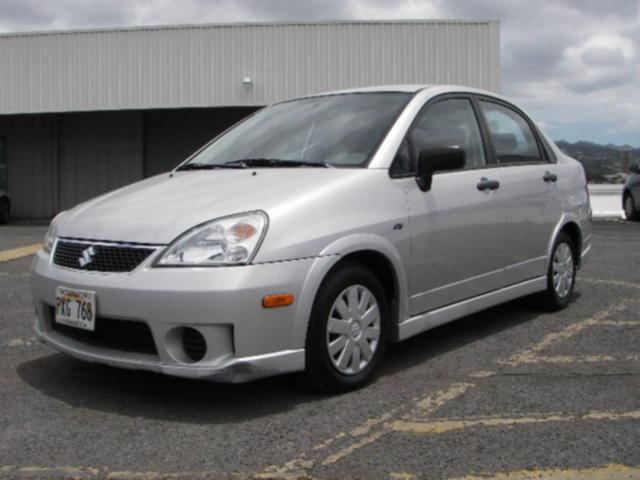suzuki: (72, 243, 100, 271)
